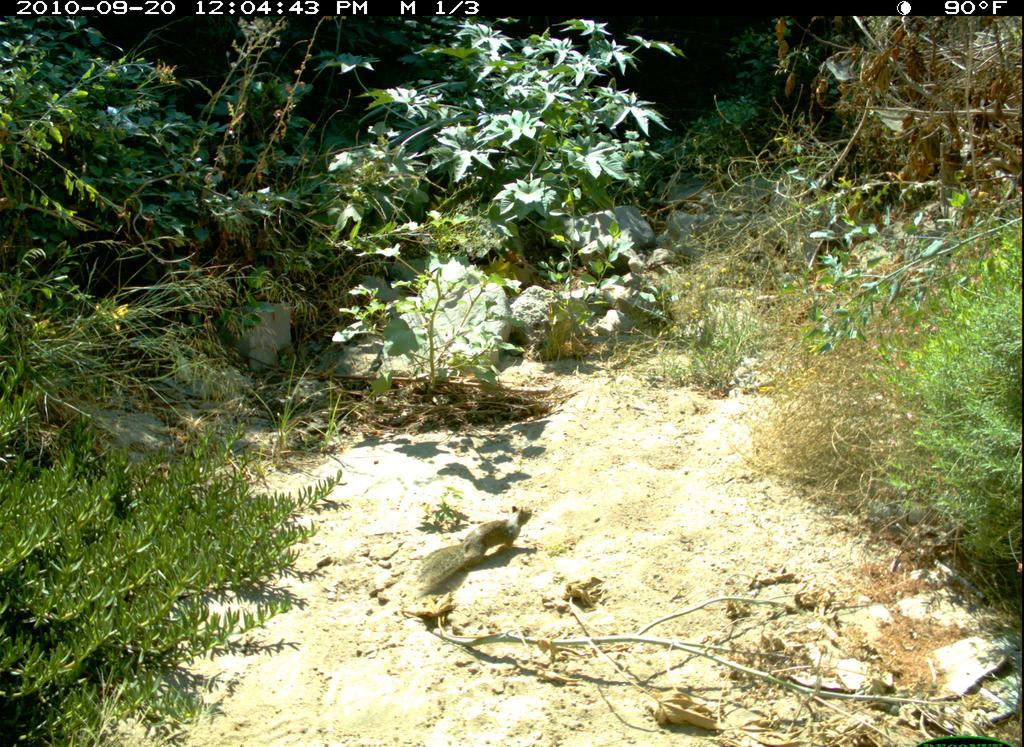squirrel: (408, 497, 543, 612)
